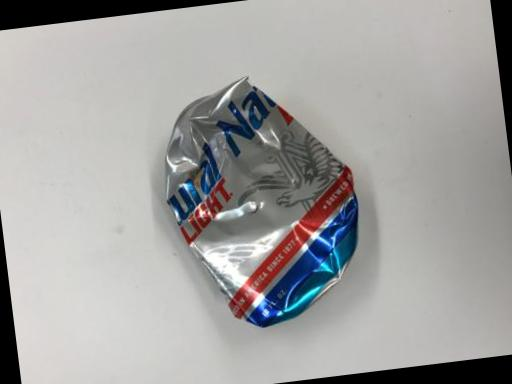metal: (137, 52, 388, 346)
